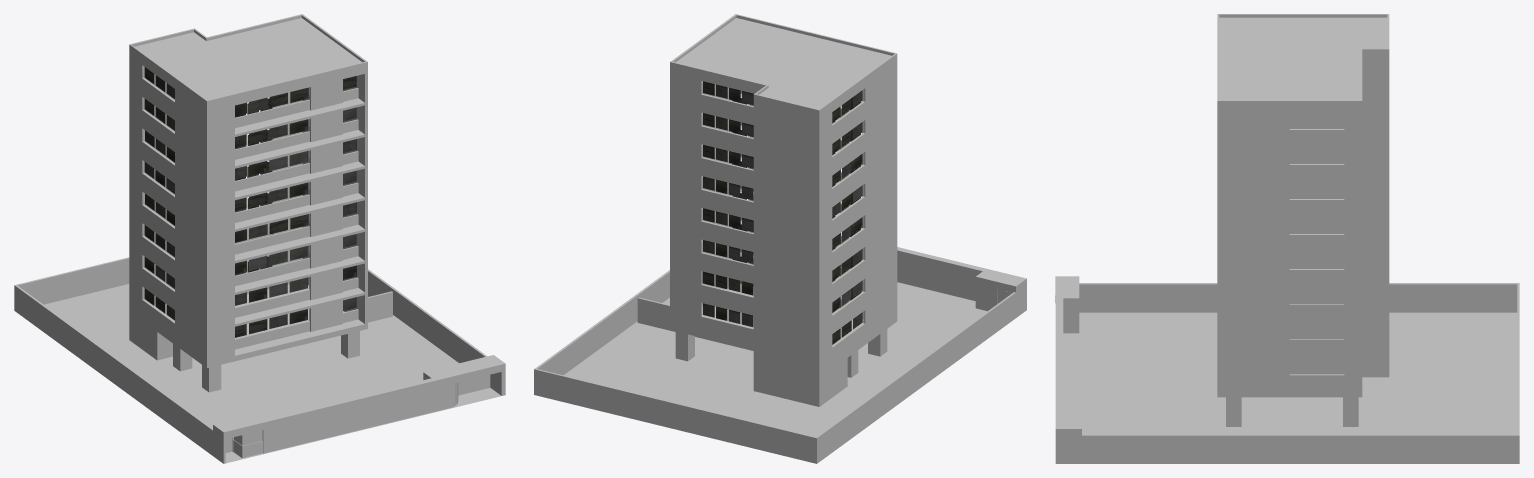
The picture shows the model from 3 angles, left to right: view 1: azimuth 30°, elevation 25°; view 2: azimuth 150°, elevation 25°; view 3: azimuth 270°, elevation 25°; orthographic projection. The views are drawn at different scales.
Visible parts, largest first — view 1: BR-019; view 2: BR-019; view 3: BR-019.
Boxes of the visible parts, x1=… form: BR-019: x1=14, y1=14, x2=505, y2=463; BR-019: x1=534, y1=14, x2=1026, y2=463; BR-019: x1=1055, y1=14, x2=1519, y2=463.
Size of what is drawn, in the model's own units: 28 by 28.06 by 36.01.
